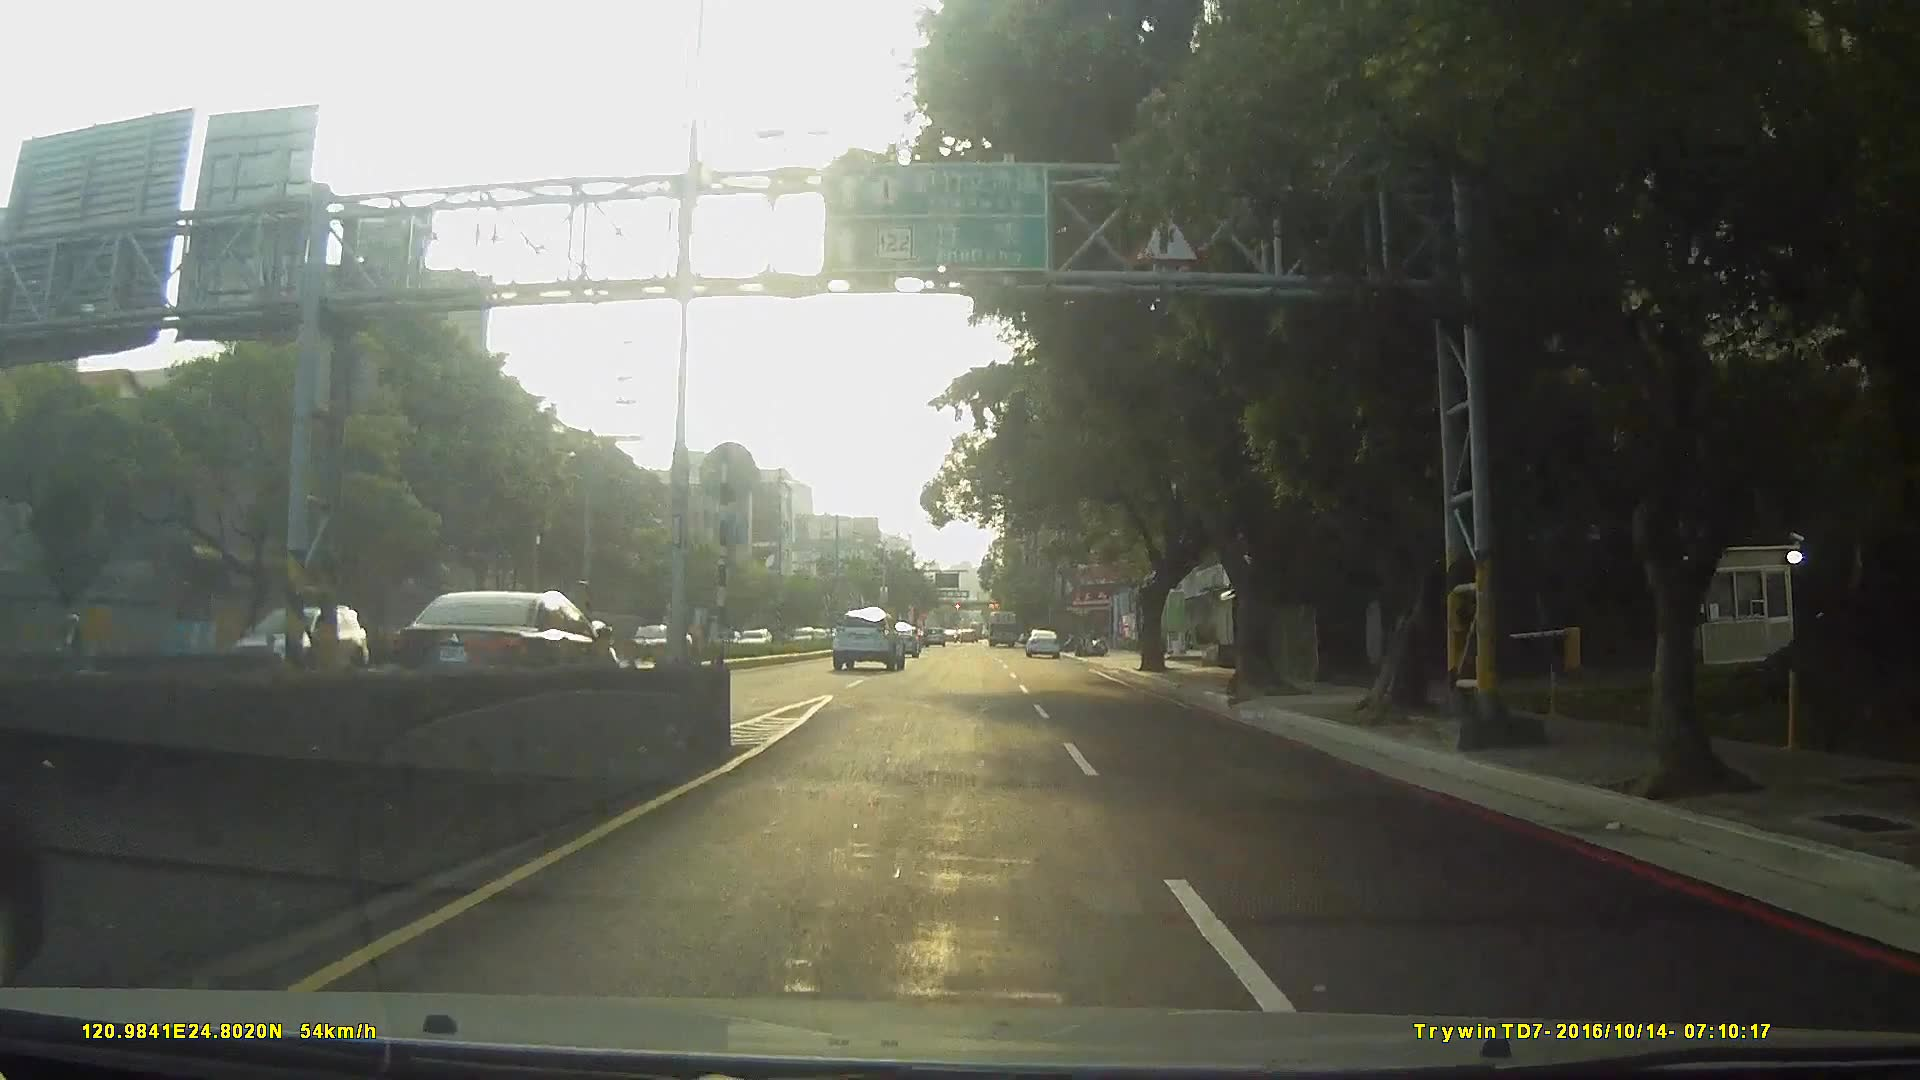vehicle: (385, 589, 622, 704), (829, 608, 905, 674), (986, 611, 1018, 650), (884, 626, 920, 659), (1022, 628, 1060, 658)
